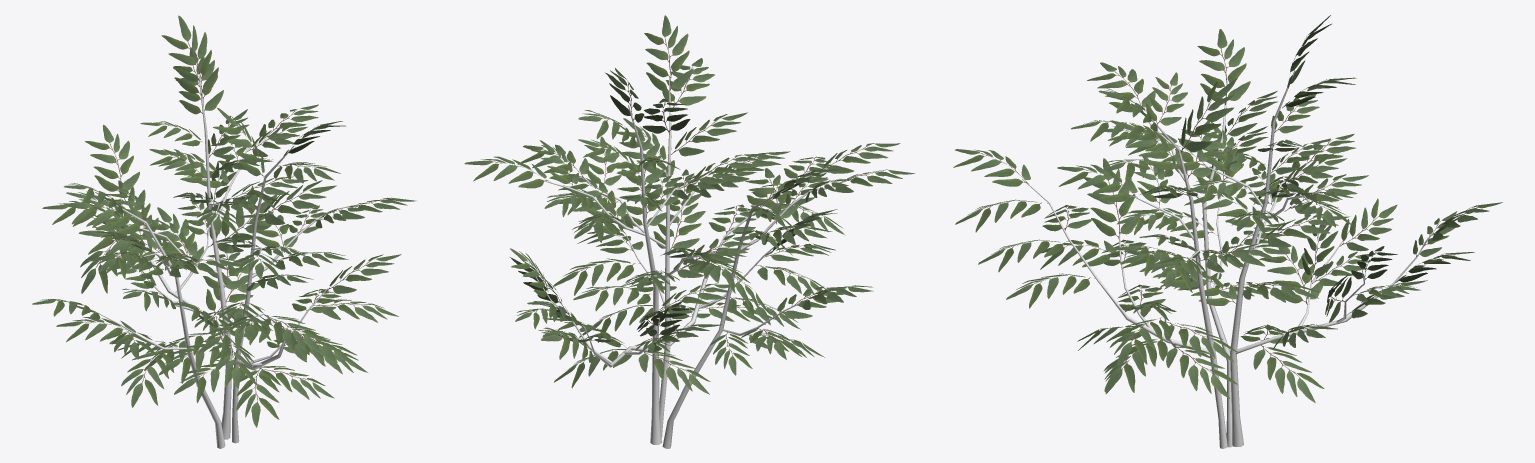
The model's file is PW_Plants_Bushes_01.fbx.
3 views of the same model, side by side, from view 1: azimuth 30°, elevation 25°; view 2: azimuth 150°, elevation 25°; view 3: azimuth 270°, elevation 25° (orthographic). The views are drawn at different scales.
Visible parts, largest first — view 1: PW_Plants_Bushes_01_LOD0; view 2: PW_Plants_Bushes_01_LOD0; view 3: PW_Plants_Bushes_01_LOD0.
Boxes of the visible parts, left/top/right/bottom form: PW_Plants_Bushes_01_LOD0: left=32, top=15, right=416, bottom=448; PW_Plants_Bushes_01_LOD0: left=464, top=15, right=915, bottom=448; PW_Plants_Bushes_01_LOD0: left=953, top=15, right=1502, bottom=448.
Size of what is drawn, in the model's own units: 186 by 190 by 225.
Materials: 2 (1 with a texture image).
